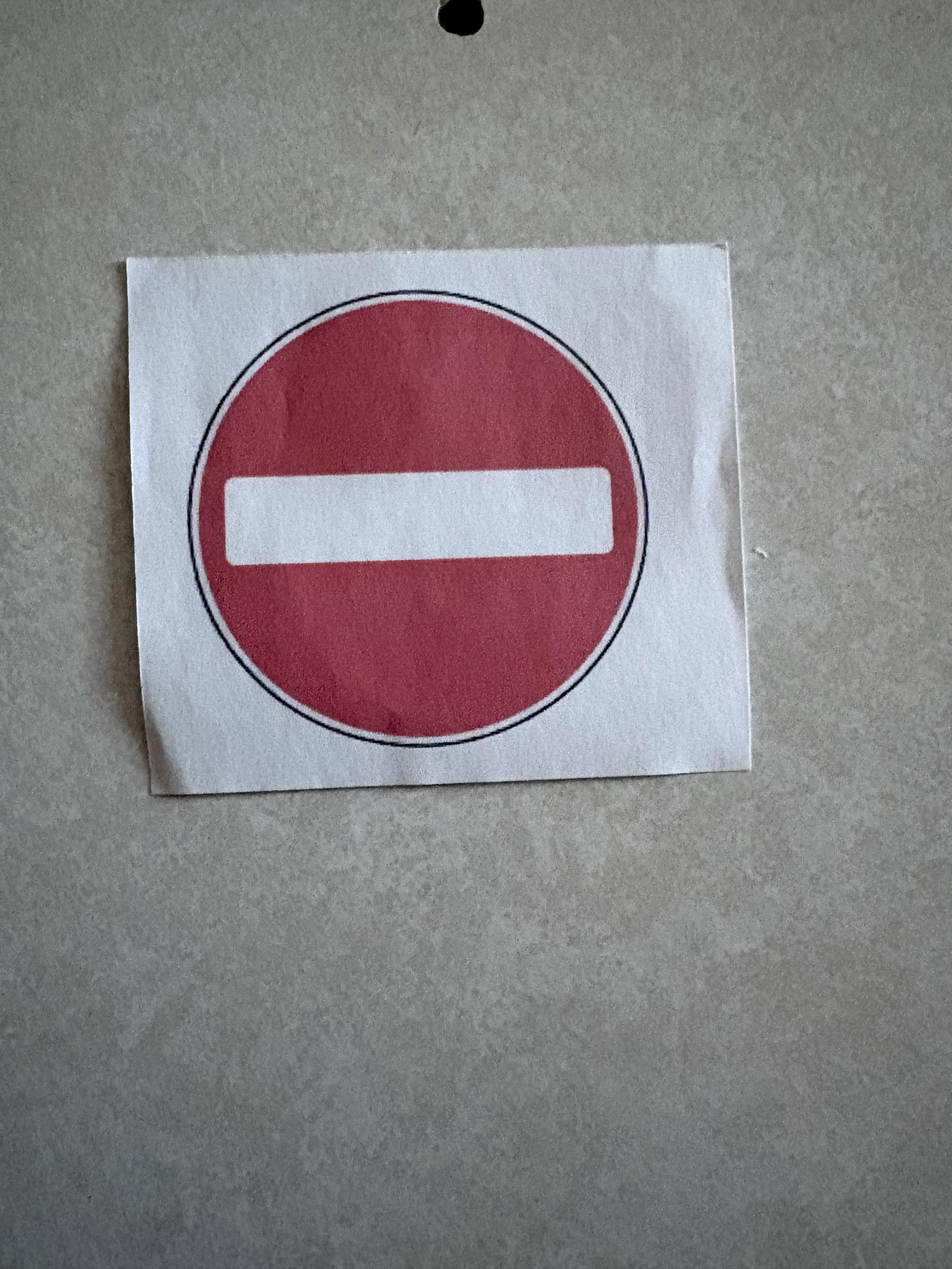No Entry: (126, 237, 756, 809)
